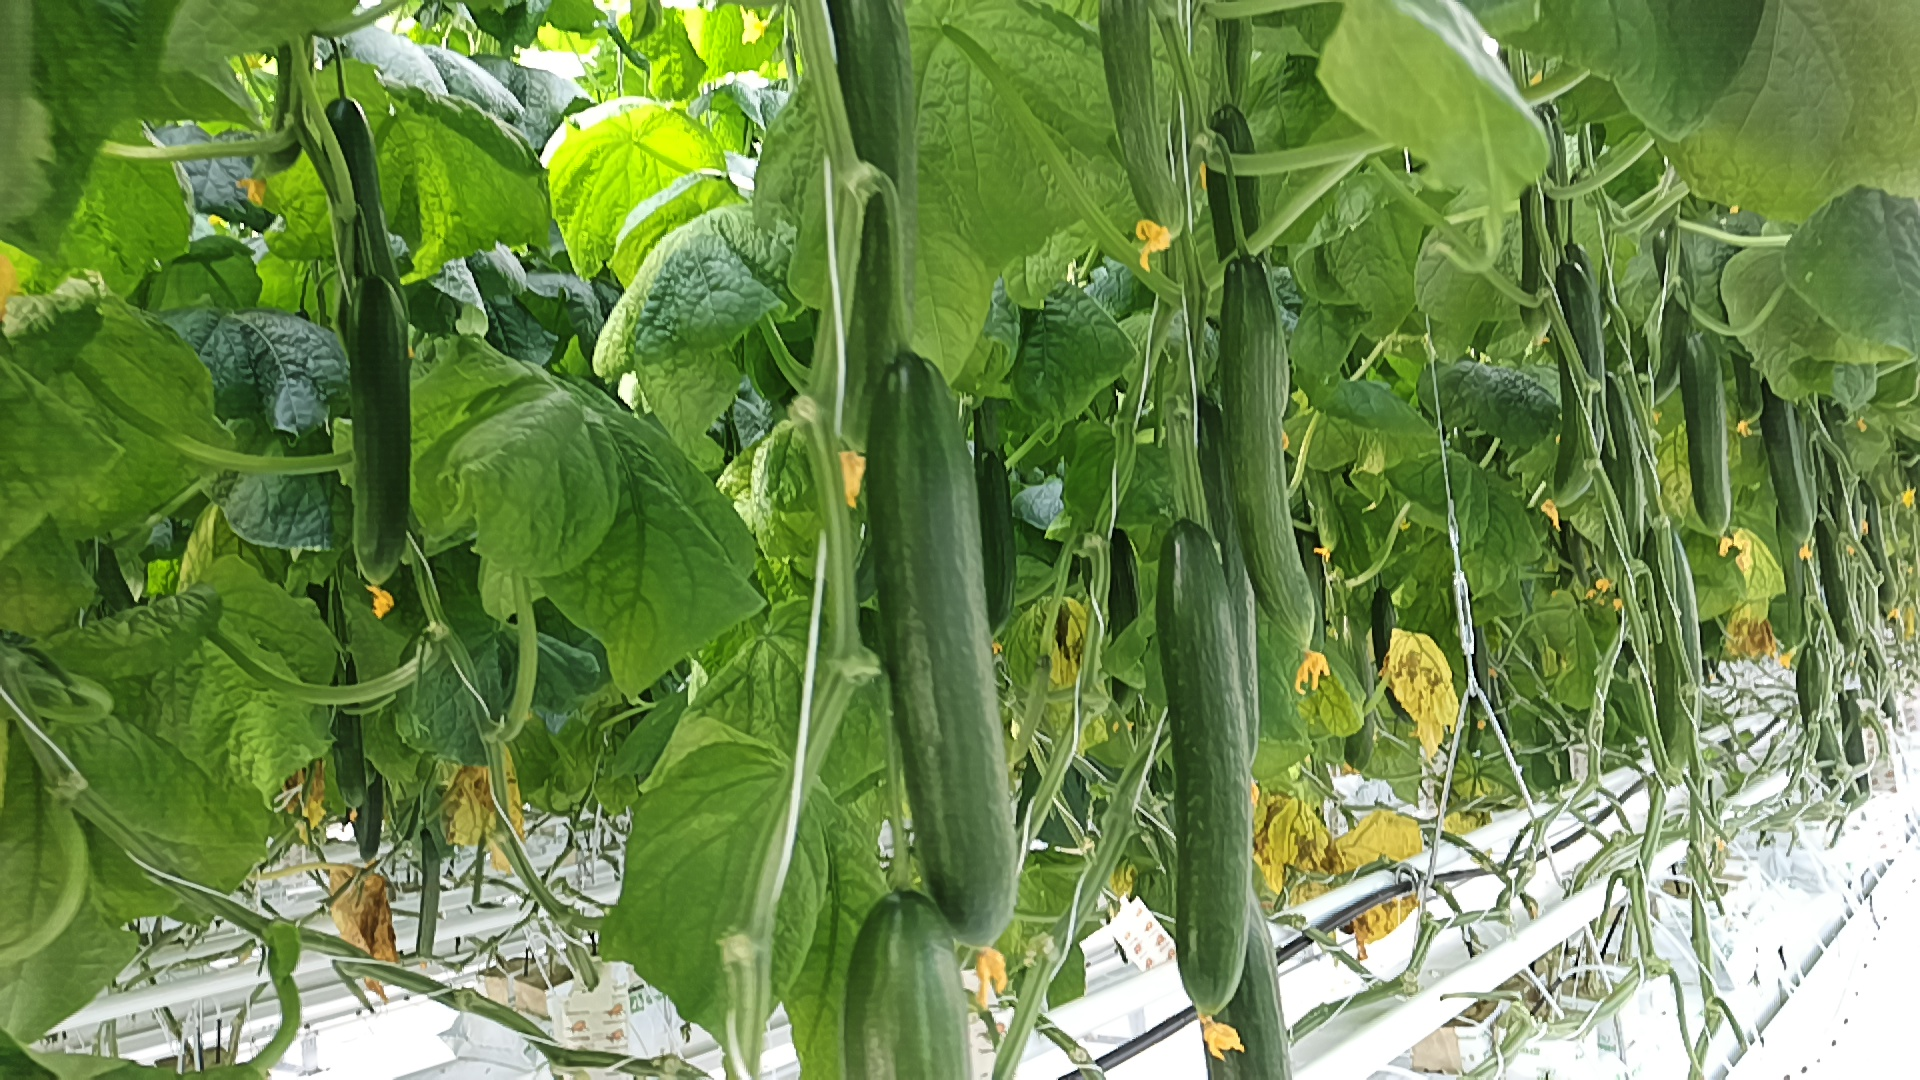gurka: (860, 332, 1059, 953), (1143, 513, 1274, 1015), (343, 262, 426, 576), (1679, 322, 1746, 541)
